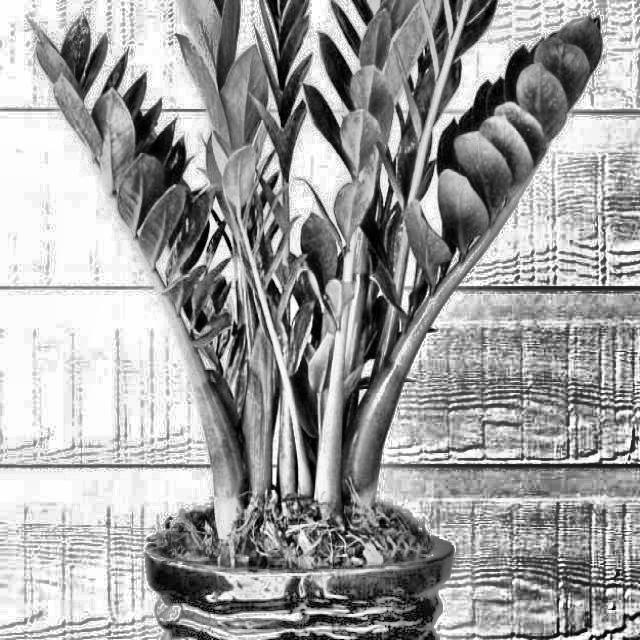plants: (38, 1, 586, 599)
